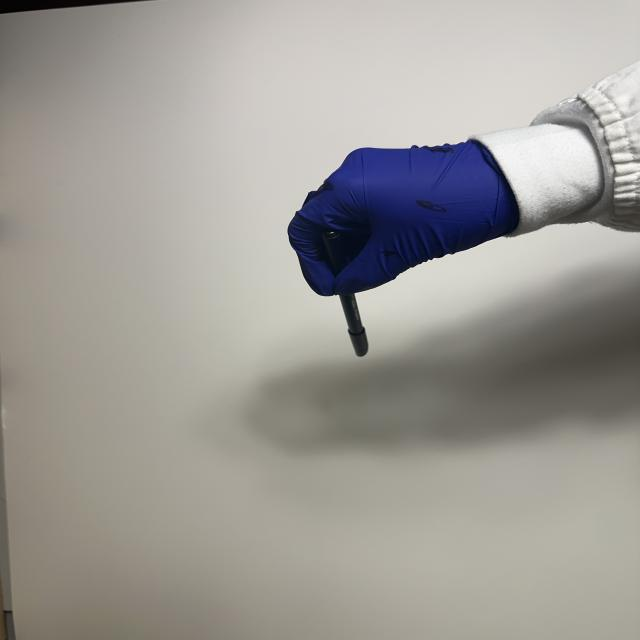gloves_contaminated: (288, 141, 519, 295)
